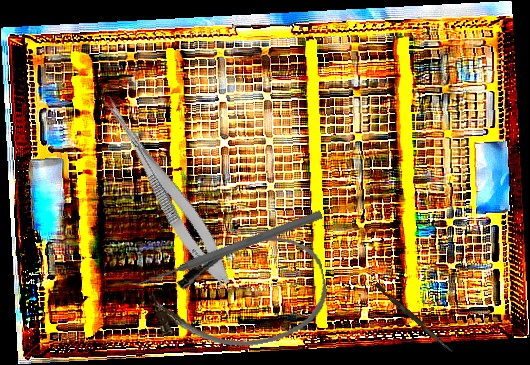Cannula: (145, 227, 335, 363)
Micro Scissor: (90, 90, 240, 293)
Pusher: (133, 207, 324, 292), (372, 282, 456, 353)
